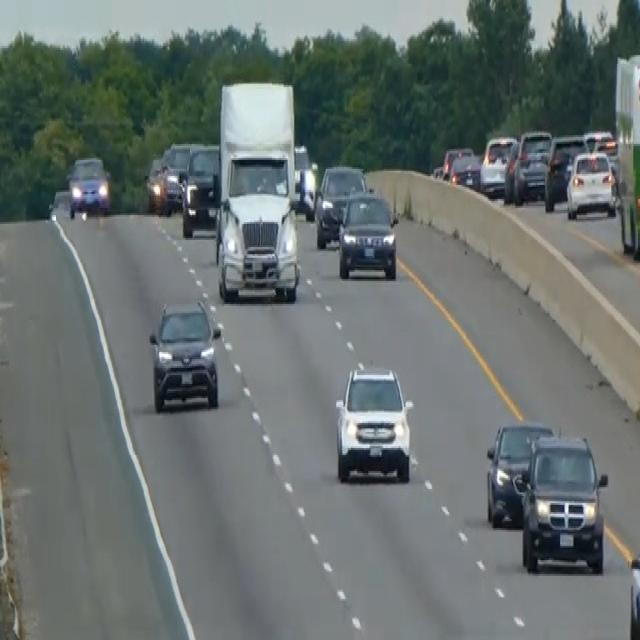car: (519, 432, 608, 574), (148, 295, 221, 413), (485, 418, 552, 528), (337, 188, 397, 281), (314, 162, 368, 247), (565, 147, 617, 220), (180, 144, 220, 236), (543, 132, 588, 212), (508, 128, 552, 204), (157, 140, 200, 213), (67, 153, 111, 217), (479, 134, 516, 196), (292, 142, 317, 217), (449, 151, 482, 190), (144, 154, 166, 212), (440, 144, 472, 180)
jeep: (332, 361, 414, 485)
lorry: (212, 78, 301, 304)
